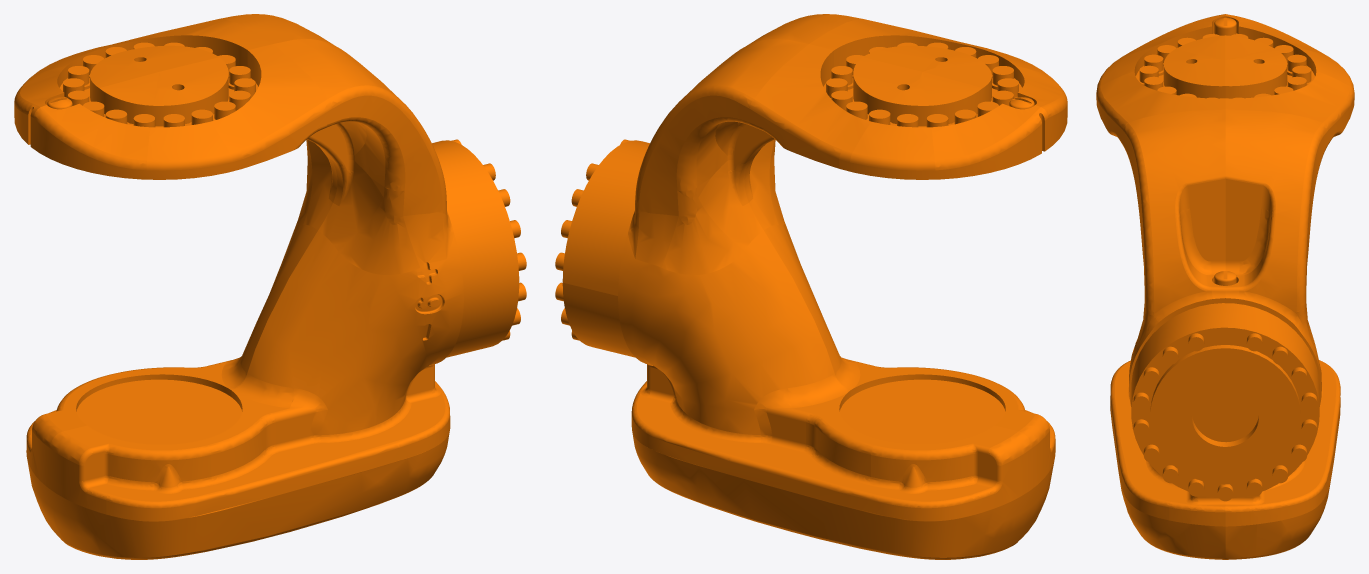
3 views of the same model, side by side, from view 1: azimuth 30°, elevation 25°; view 2: azimuth 150°, elevation 25°; view 3: azimuth 270°, elevation 25° (orthographic). The views are drawn at different scales.
Visible parts, largest first — view 1: link_5; view 2: link_5; view 3: link_5.
Part boxes in pixels (<box>): link_5: <box>14,14,526,559</box>; link_5: <box>555,14,1067,559</box>; link_5: <box>1096,14,1354,559</box>.
Bounding box in the file's own units: 0.202 × 0.2006 × 0.115.
